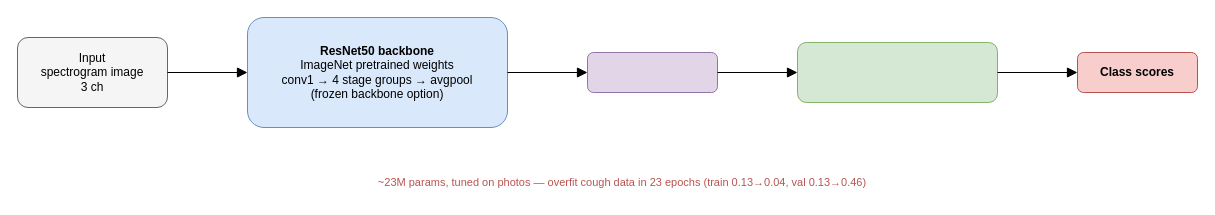
The diagram is 1215 pixels wide and 215 high, and some of its shapes have lost their labels. Here are the shapes that lost their labels. From the top down, the centre of each, then its label:
At [652,72]: "2048 features".
At [897,72]: "New head (retrained) Linear 2048 → num_classes".
